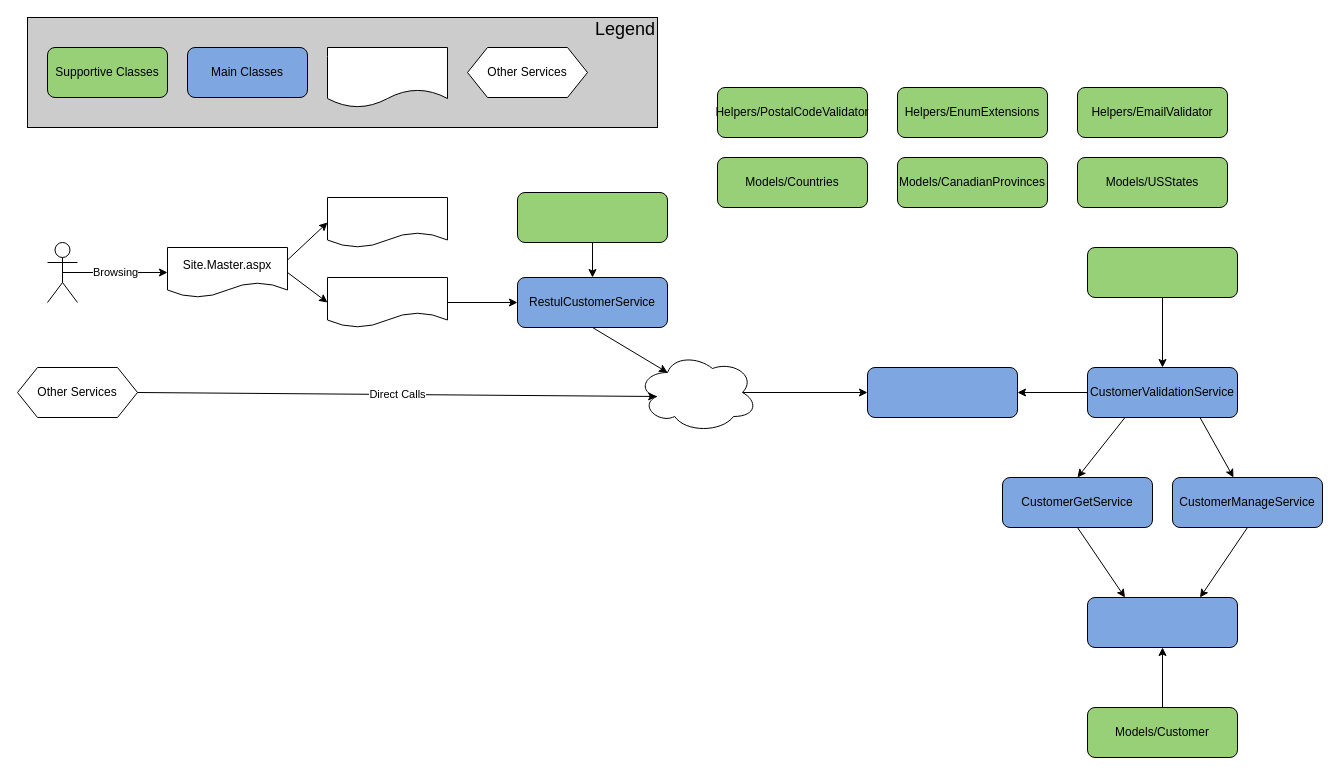
Image size: 1340x775. Some labels were removed from this diagram. Each missing label, with the centre of its shape:
Actor: pixel 62 272
common/ValidationResult: pixel 1162 272
Customers.aspx: pixel 387 302
CustomersController: pixel 942 392
CustomersRepository: pixel 1162 622
Default.aspx: pixel 387 222
Helpers/HttpBodyHelper: pixel 592 217
HTTP: pixel 697 392
WebPages: pixel 387 77
